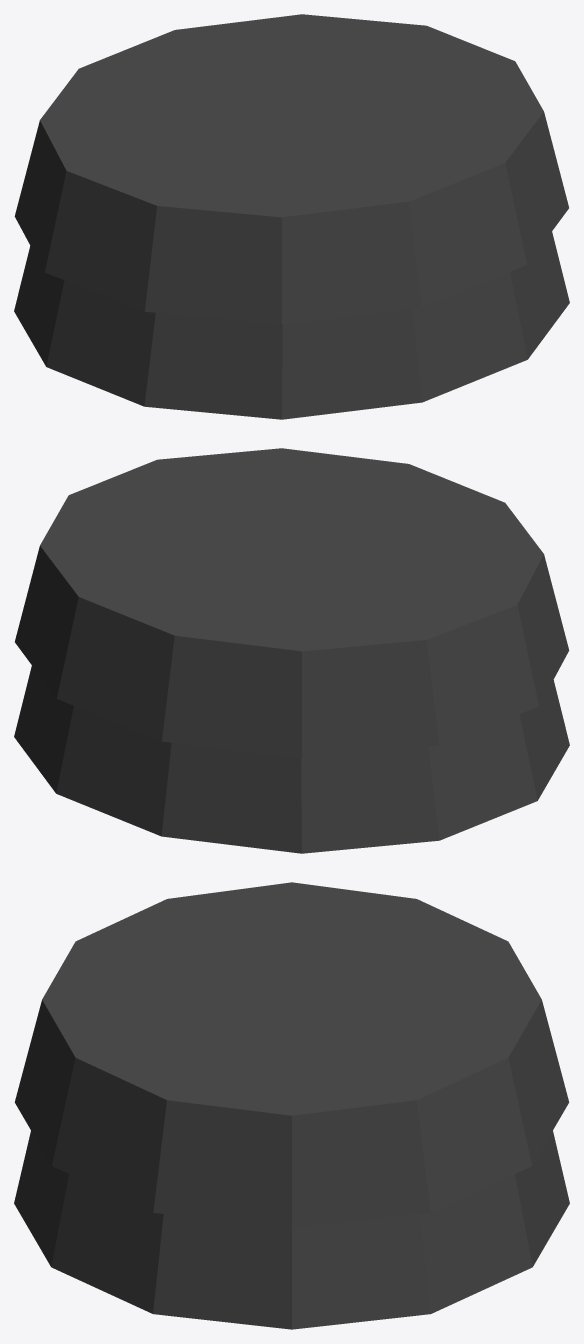
File: Torzo.fbx
3 views of the same model, one above another, from view 1: azimuth 30°, elevation 25°; view 2: azimuth 150°, elevation 25°; view 3: azimuth 270°, elevation 25° (orthographic). The views are drawn at different scales.
Visible parts, largest first — view 1: Torzo; view 2: Torzo; view 3: Torzo.
Boxes of the visible parts, x1,y1,x2,y2 form: Torzo: [14, 14, 569, 419]; Torzo: [14, 448, 569, 853]; Torzo: [14, 882, 569, 1329].
Size of the model in its own units: 73.83 by 27.55 by 68.1.
